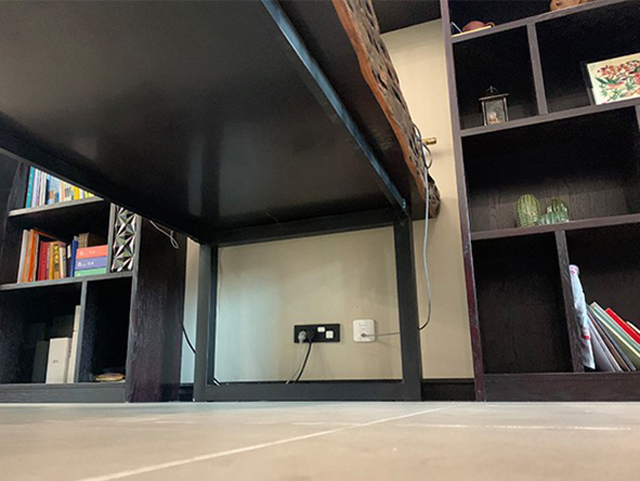cabinet: (439, 1, 640, 403), (1, 151, 187, 403)
table: (1, 1, 441, 403)
wire: (284, 318, 399, 378), (414, 127, 435, 331)
